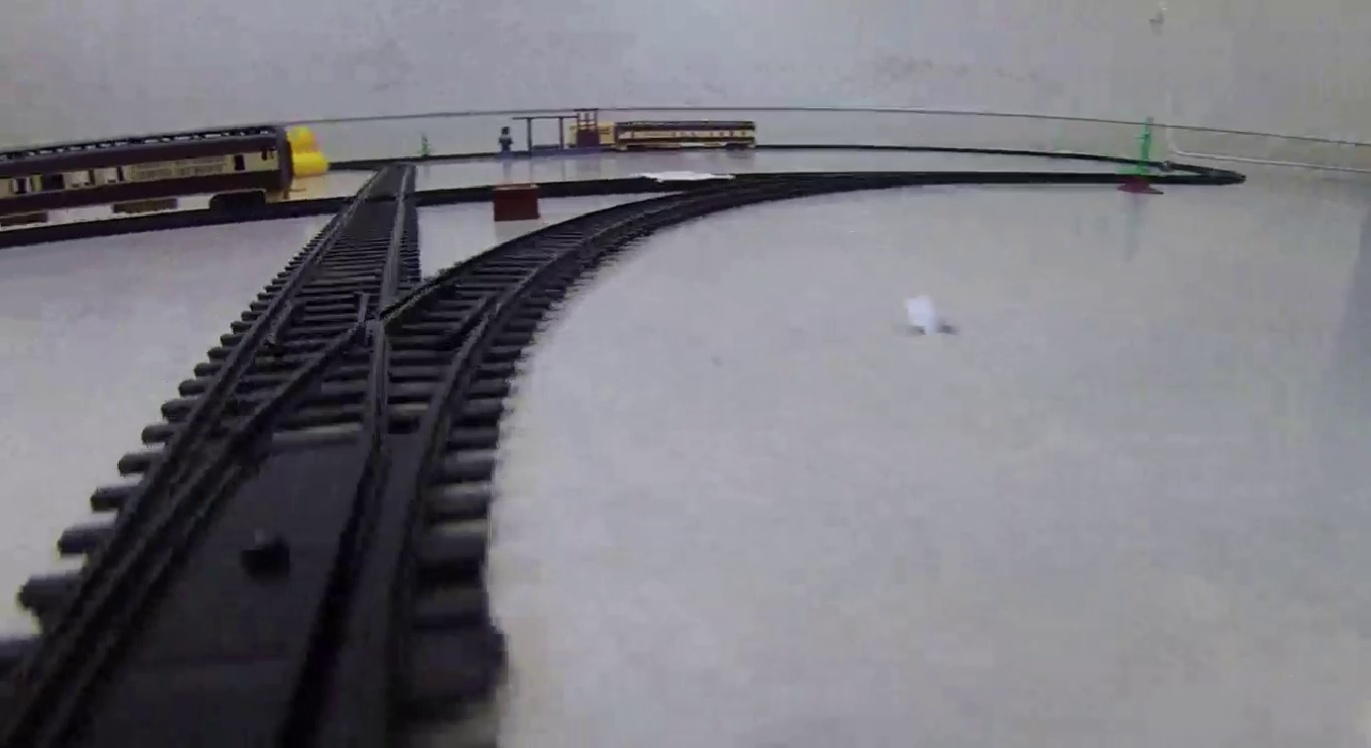box: (495, 186, 540, 217)
tree: (1118, 113, 1162, 195)
